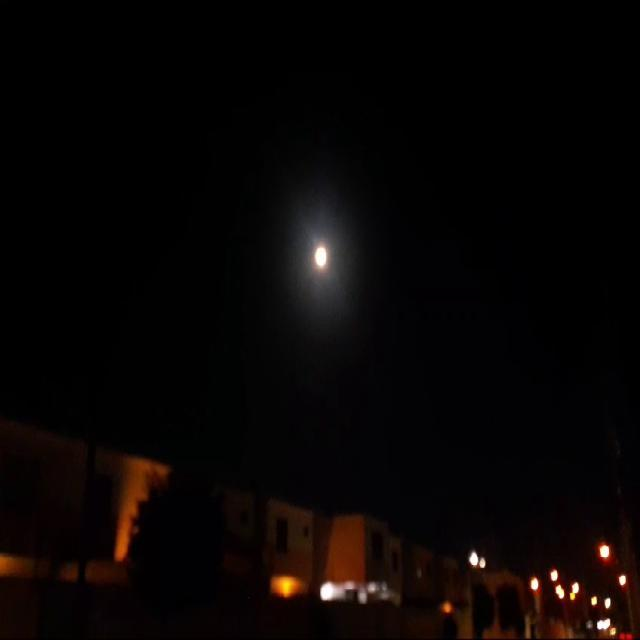moon: (312, 242, 330, 276)
